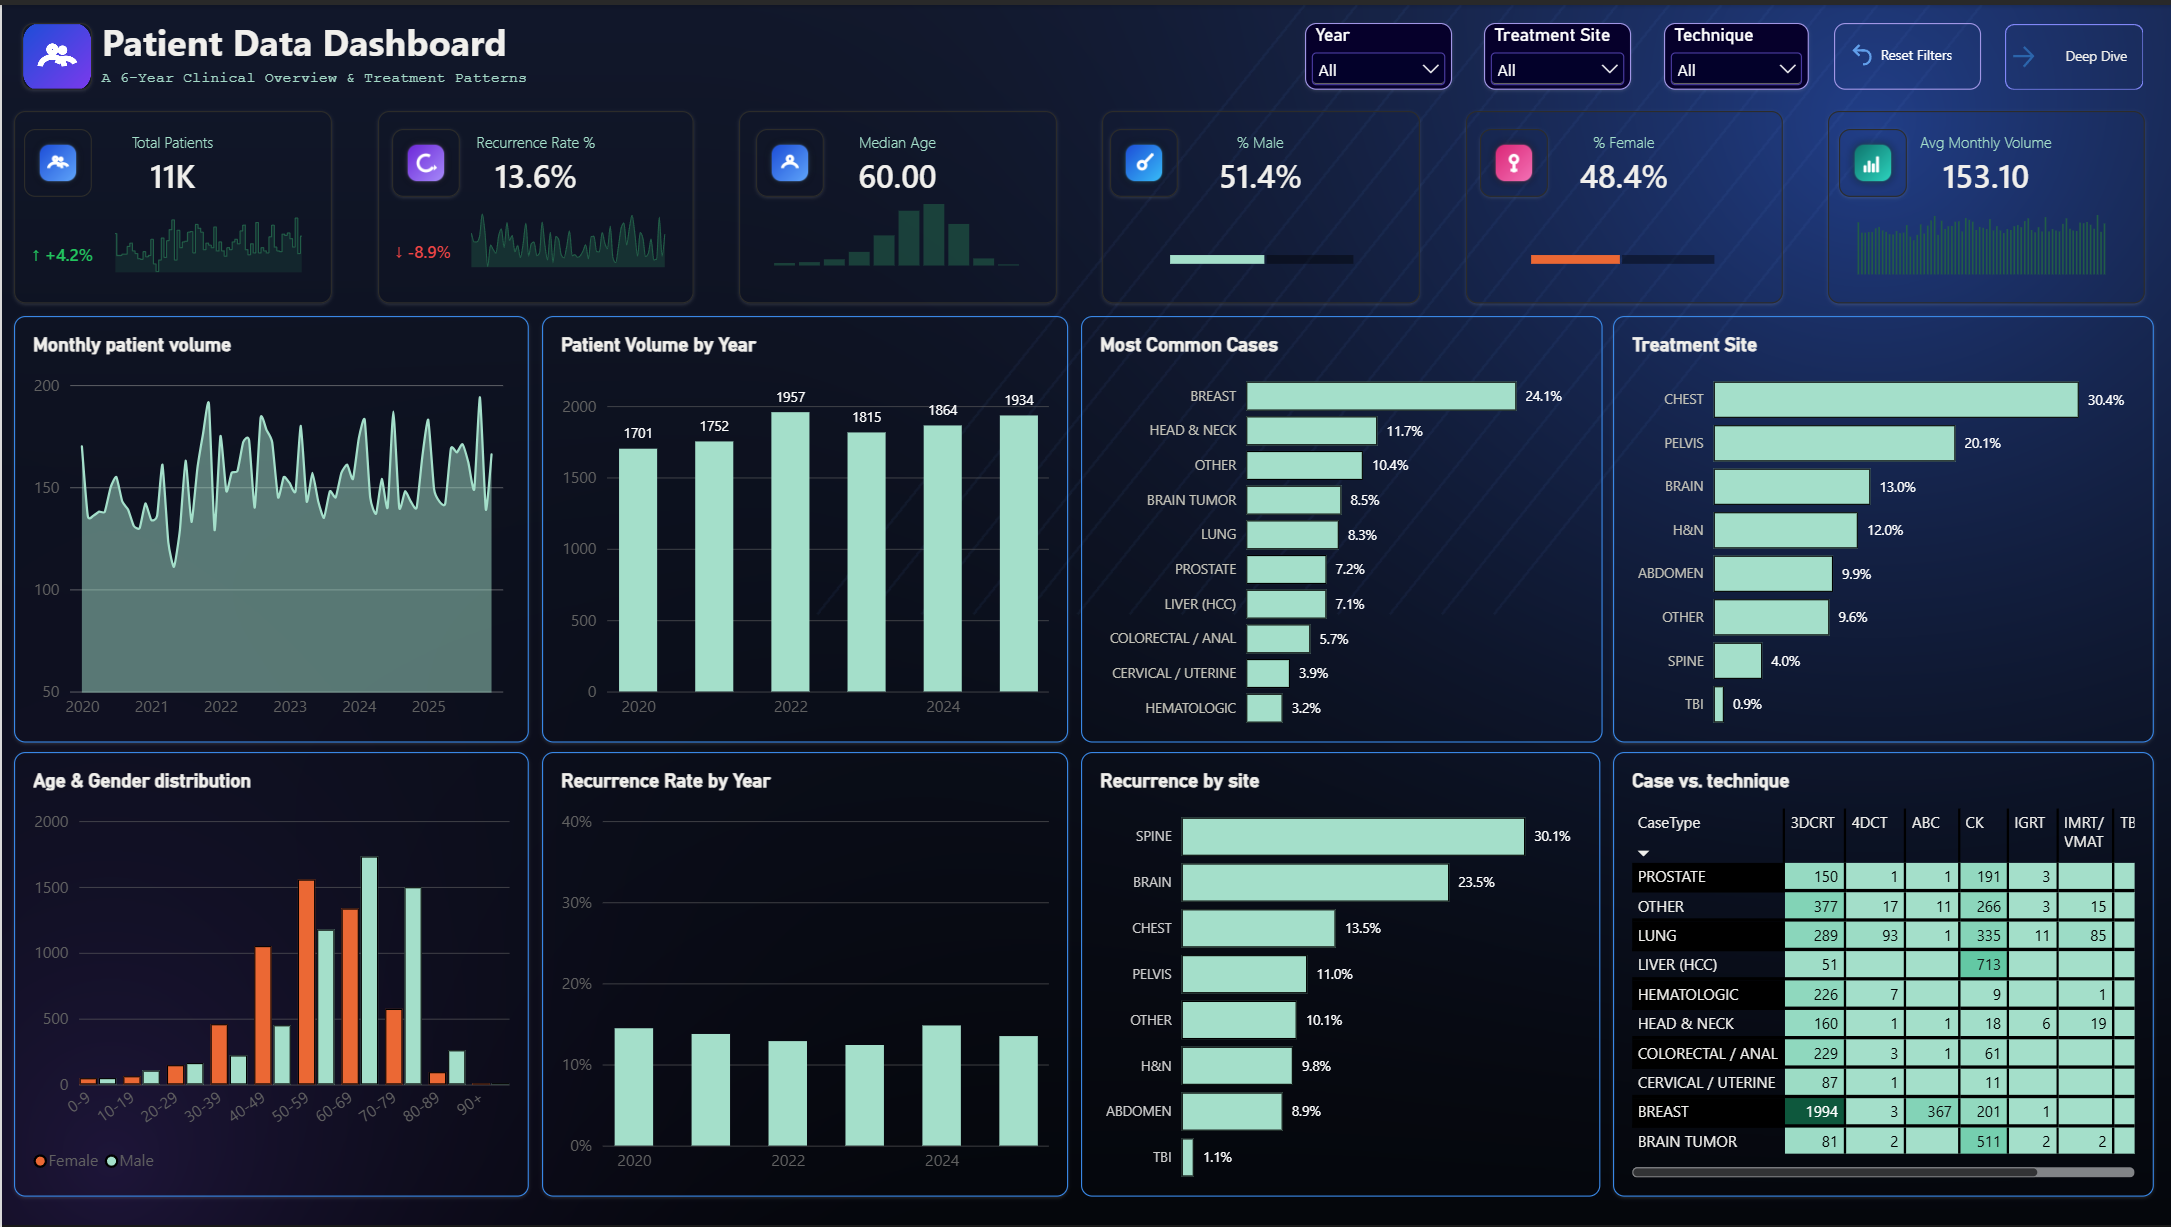

Layout of this report page (visuals, bound fields, positions):
{"tool":"powerbi","page":{"name":"Patient DB","canvas":[1920,1080],"ordinal":0},"visuals":[{"type":"slicer","fields":{"Values":["RT_Dashboard_Clean.year"]},"box":[1151.2,16,130.1,59.5],"z":0,"group":"g7"},{"type":"group","id":"g1","title":"Group 2","box":[10.4,93.3,280.7,170],"z":0,"group":"g8"},{"type":"cardVisual","fields":{"Data":["RT_Dashboard_Clean.Total Patients"]},"box":[10.4,93.3,280.7,170],"z":0,"group":"g1"},{"type":"cardVisual","fields":{"Data":["RT_Dashboard_Clean.Recurrence Rate %"]},"box":[332.2,93.3,279,170],"z":0,"group":"g2"},{"type":"areaChart","title":"Monthly patient volume","fields":{"Category":["RT_Dashboard_Clean.MonthStart.Variation.Date Hierarchy.Year","RT_Dashboard_Clean.MonthStart.Variation.Date Hierarchy.Quarter","RT_Dashboard_Clean.MonthStart.Variation.Date Hierarchy.Month","RT_Dashboard_Clean.MonthStart.Variation.Date Hierarchy.Day"],"Y":["RT_Dashboard_Clean.Total Patients"]},"box":[10.4,275.1,455,376.8],"z":0},{"type":"slicer","fields":{"Values":["RT_Dashboard_Clean.site_group"]},"box":[1309.2,16,130.1,58.6],"z":1000,"group":"g7"},{"type":"group","id":"g2","title":"Group 3","box":[331.3,93.3,280,170],"z":1000,"group":"g8"},{"type":"cardVisual","fields":{"Data":["RT_Dashboard_Clean.Patients Trend Label"]},"box":[10.6,200,86.7,39.5],"z":1000,"group":"g1"},{"type":"cardVisual","fields":{"Data":["RT_Dashboard_Clean.Recurrence Trend Label"]},"box":[331.3,201.9,87.1,30.5],"z":1000,"group":"g2"},{"type":"clusteredColumnChart","title":"Patient Volume by Year","fields":{"Category":["RT_Dashboard_Clean.year"],"Y":["RT_Dashboard_Clean.Total Patients"]},"box":[477.6,275.1,465.4,376.8],"z":1000},{"type":"slicer","fields":{"Values":["Technique_Breakdown.technique"]},"box":[1468.1,16,128.3,58.6],"z":2000,"group":"g7"},{"type":"group","id":"g3","title":"Group 4","box":[651.5,93.3,280.7,170],"z":2000,"group":"g8"},{"type":"cardVisual","fields":{"Data":["RT_Dashboard_Clean.Median Age"]},"box":[651.5,93.3,280.7,170],"z":2000,"group":"g3"},{"type":"lineChart","fields":{"Category":["RT_Dashboard_Clean.MonthStart"],"Y":["RT_Dashboard_Clean.Recurrence Rate %"]},"box":[388.5,161.7,222.8,86.5],"z":2000,"group":"g2"},{"type":"lineChart","fields":{"Category":["RT_Dashboard_Clean.MonthStart"],"Y":["RT_Dashboard_Clean.Total Patients"]},"box":[73.6,165.2,216.7,87.4],"z":2000,"group":"g1"},{"type":"barChart","title":"Most Common Cases","fields":{"Category":["RT_Dashboard_Clean.CaseType"],"Y":["RT_Dashboard_Clean.Case Type %"]},"box":[953.4,275.1,460.7,376.8],"z":2000},{"type":"cardVisual","fields":{"Data":["RT_Dashboard_Clean.% Male"]},"box":[972.4,93.3,280.7,170],"z":3000,"group":"g6"},{"type":"group","id":"g4","title":"Group 5","box":[1613.4,93.3,280,170],"z":3000,"group":"g8"},{"type":"barChart","title":"Treatment Site","fields":{"Category":["RT_Dashboard_Clean.site_group"],"Y":["RT_Dashboard_Clean.Site %"]},"box":[1423.5,275.1,477.6,376.8],"z":3000},{"type":"group","id":"g5","title":"Group 6","box":[1293.2,93.3,280,171.1],"z":4000,"group":"g8"},{"type":"cardVisual","fields":{"Data":["RT_Dashboard_Clean.% Female"]},"box":[1293.2,93.3,280,170],"z":4000,"group":"g5"},{"type":"clusteredColumnChart","title":"Age & Gender distribution","fields":{"Category":["RT_Dashboard_Clean.AgeBand"],"Series":["RT_Dashboard_Clean.SexLabel"],"Y":["RT_Dashboard_Clean.Total Patients"]},"box":[10.4,660.4,455,392.9],"z":4000},{"type":"group","id":"g6","title":"Group 7","box":[972.4,93.3,280.7,171.1],"z":5000,"group":"g8"},{"type":"cardVisual","fields":{"Data":["RT_Dashboard_Clean.Avg Monthly Volume"]},"box":[1613.4,93.3,280,170],"z":5000,"group":"g4"},{"type":"clusteredColumnChart","title":"Recurrence Rate by Year","fields":{"Category":["RT_Dashboard_Clean.year"],"Y":["RT_Dashboard_Clean.Recurrence Rate %"]},"box":[477.6,660.4,465.4,392.9],"z":5000},{"type":"clusteredBarChart","title":"Recurrence by site","fields":{"Category":["RT_Dashboard_Clean.site_group"],"Y":["RT_Dashboard_Clean.Recurrence Rate %"]},"box":[953.4,660.4,458.8,392.9],"z":6000},{"type":"pivotTable","title":"Case vs. technique","fields":{"Columns":["Technique_Breakdown.technique"],"Rows":["Technique_Breakdown.CaseType"],"Values":["CountNonNull(Technique_Breakdown.CaseType)"]},"box":[1423.5,660.4,477.6,392.9],"z":7000},{"type":"textbox","box":[0,9.3,804,71.6],"z":8000},{"type":"image","box":[17.7,15.8,62.3,59.5],"z":9000},{"type":"group","id":"g7","title":"Group 1","box":[1151.2,16,444.7,59.4],"z":10000},{"type":"actionButton","title":"Clear Filters","box":[1619.5,16,130.1,58.6],"z":11000},{"type":"image","box":[19.8,109.3,60.4,60],"z":12000},{"type":"image","box":[344.8,109.3,60.4,60],"z":13000},{"type":"image","box":[666.1,109.3,60,60],"z":14000},{"type":"image","box":[978.8,109.3,60,60],"z":15000},{"type":"image","box":[1306.7,109.3,60,60],"z":16000},{"type":"image","box":[1623.2,109.3,60,60],"z":17000},{"type":"group","id":"g8","title":"Group 8","box":[10.4,93.3,1883,171.1],"z":18000},{"type":"actionButton","box":[1770.3,16.9,122.4,58.4],"z":18001},{"type":"clusteredColumnChart","fields":{"Category":["RT_Dashboard_Clean.AgeBand"],"Y":["RT_Dashboard_Clean.Total Patients"]},"box":[666.4,152.8,248.7,94.3],"z":20011,"group":"g3"},{"type":"clusteredColumnChart","fields":{"Category":["RT_Dashboard_Clean.MonthStart"],"Y":["RT_Dashboard_Clean.Total Patients"]},"box":[1623.3,162.5,251.8,92.4],"z":20013,"group":"g4"},{"type":"hundredPercentStackedBarChart","fields":{"Y":["RT_Dashboard_Clean.% Male","RT_Dashboard_Clean.Male Remainder"]},"box":[1016.4,179.7,194.1,84.7],"z":20015,"group":"g6"},{"type":"hundredPercentStackedBarChart","fields":{"Y":["RT_Dashboard_Clean.% Female","RT_Dashboard_Clean.Female Remainder"]},"box":[1334.5,179.7,194.2,84.7],"z":20016,"group":"g5"}]}

Visuals, with their boxes in screenshot pixels (x1, y1, x2, y2), scaled from the page's 1920x1080 canvas onto the 2171x1227 screenshot:
slicer - RT_Dashboard_Clean.year: (1302,18,1449,86)
"Group 2" group: (12,106,329,299)
cardVisual - RT_Dashboard_Clean.Total Patients: (12,106,329,299)
cardVisual - RT_Dashboard_Clean.Recurrence Rate %: (376,106,691,299)
"Monthly patient volume" areaChart: (12,313,526,741)
slicer - RT_Dashboard_Clean.site_group: (1480,18,1627,85)
"Group 3" group: (375,106,691,299)
cardVisual - RT_Dashboard_Clean.Patients Trend Label: (12,227,110,272)
cardVisual - RT_Dashboard_Clean.Recurrence Trend Label: (375,229,473,264)
"Patient Volume by Year" clusteredColumnChart: (540,313,1066,741)
slicer - Technique_Breakdown.technique: (1660,18,1805,85)
"Group 4" group: (737,106,1054,299)
cardVisual - RT_Dashboard_Clean.Median Age: (737,106,1054,299)
lineChart - RT_Dashboard_Clean.MonthStart x RT_Dashboard_Clean.Recurrence Rate %: (439,184,691,282)
lineChart - RT_Dashboard_Clean.MonthStart x RT_Dashboard_Clean.Total Patients: (83,188,328,287)
"Most Common Cases" barChart: (1078,313,1599,741)
cardVisual - RT_Dashboard_Clean.% Male: (1100,106,1417,299)
"Group 5" group: (1824,106,2141,299)
"Treatment Site" barChart: (1610,313,2150,741)
"Group 6" group: (1462,106,1779,300)
cardVisual - RT_Dashboard_Clean.% Female: (1462,106,1779,299)
"Age & Gender distribution" clusteredColumnChart: (12,750,526,1197)
"Group 7" group: (1100,106,1417,300)
cardVisual - RT_Dashboard_Clean.Avg Monthly Volume: (1824,106,2141,299)
"Recurrence Rate by Year" clusteredColumnChart: (540,750,1066,1197)
"Recurrence by site" clusteredBarChart: (1078,750,1597,1197)
"Case vs. technique" pivotTable: (1610,750,2150,1197)
textbox: (0,11,909,92)
image: (20,18,90,86)
"Group 1" group: (1302,18,1805,86)
"Clear Filters" actionButton: (1831,18,1978,85)
image: (22,124,91,192)
image: (390,124,458,192)
image: (753,124,821,192)
image: (1107,124,1175,192)
image: (1478,124,1545,192)
image: (1835,124,1903,192)
"Group 8" group: (12,106,2141,300)
actionButton: (2002,19,2140,86)
clusteredColumnChart - RT_Dashboard_Clean.AgeBand x RT_Dashboard_Clean.Total Patients: (754,174,1035,281)
clusteredColumnChart - RT_Dashboard_Clean.MonthStart x RT_Dashboard_Clean.Total Patients: (1836,185,2120,290)
hundredPercentStackedBarChart - RT_Dashboard_Clean.% Male x RT_Dashboard_Clean.Male Remainder: (1149,204,1369,300)
hundredPercentStackedBarChart - RT_Dashboard_Clean.% Female x RT_Dashboard_Clean.Female Remainder: (1509,204,1729,300)
